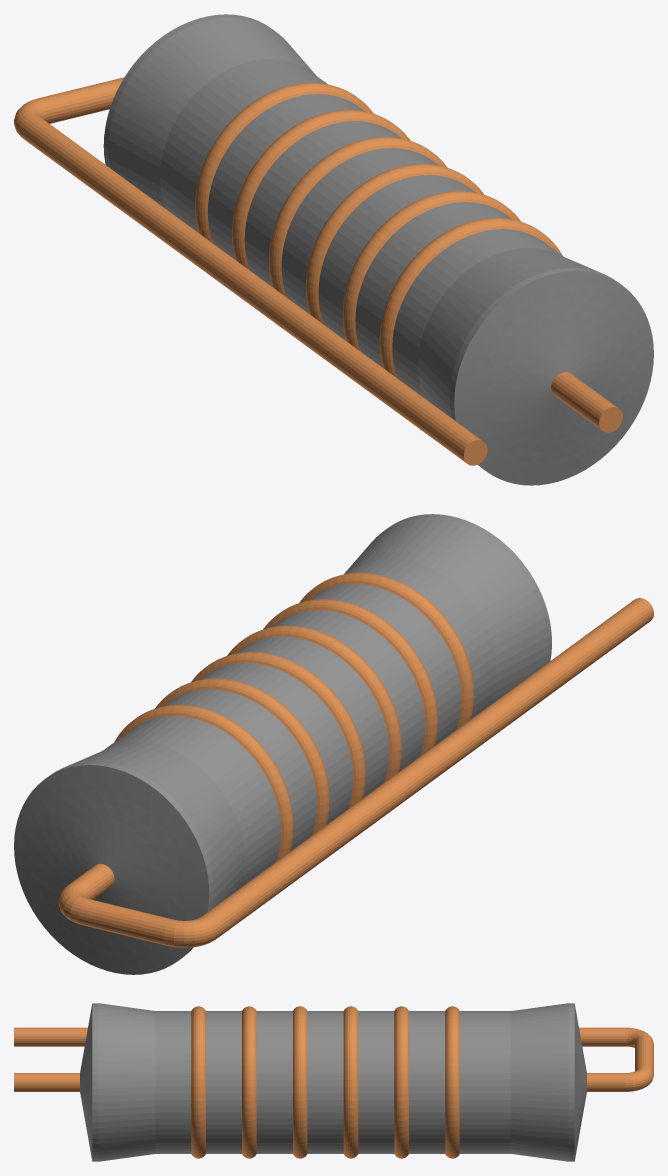
Rendered from L_Axial_L24.0mm_D7.5mm_P5.08mm_Vertical_Fastron_MESC.glb.
3 renders of one model, top to bottom at view 1: azimuth 30°, elevation 25°; view 2: azimuth 150°, elevation 25°; view 3: azimuth 270°, elevation 25°, orthographic. The views are drawn at different scales.
Visible parts, largest first — view 1: Shape_IndexedFaceSet.002, Shape_IndexedFaceSet.025, Shape_IndexedFaceSet.018, Shape_IndexedFaceSet.017, Shape_IndexedFaceSet.004, Shape_IndexedFaceSet.005, Shape_IndexedFaceSet.007, Shape_IndexedFaceSet.009, Shape_IndexedFaceSet.011, Shape_IndexedFaceSet.015, Shape_IndexedFaceSet.013, Shape_IndexedFaceSet.006 (+9 smaller); view 2: Shape_IndexedFaceSet.020, Shape_IndexedFaceSet.025, Shape_IndexedFaceSet.004, Shape_IndexedFaceSet.017, Shape_IndexedFaceSet.018, Shape_IndexedFaceSet.011, Shape_IndexedFaceSet.015, Shape_IndexedFaceSet.007, Shape_IndexedFaceSet.009, Shape_IndexedFaceSet.013, Shape_IndexedFaceSet.005, Shape_IndexedFaceSet.016 (+11 smaller); view 3: Shape_IndexedFaceSet.004, Shape_IndexedFaceSet.018, Shape_IndexedFaceSet.017, Shape_IndexedFaceSet.005, Shape_IndexedFaceSet.009, Shape_IndexedFaceSet.011, Shape_IndexedFaceSet.013, Shape_IndexedFaceSet.015, Shape_IndexedFaceSet.007, Shape_IndexedFaceSet.012, Shape_IndexedFaceSet.025, Shape_IndexedFaceSet.010 (+13 smaller).
Boxes of the visible parts, x1,y1,x2,y2 form: Shape_IndexedFaceSet.002: (454,271,653,485); Shape_IndexedFaceSet.025: (19,115,481,463); Shape_IndexedFaceSet.018: (108,17,315,207); Shape_IndexedFaceSet.017: (160,59,327,231); Shape_IndexedFaceSet.004: (418,248,600,417); Shape_IndexedFaceSet.005: (392,229,562,397); Shape_IndexedFaceSet.007: (355,202,512,367); Shape_IndexedFaceSet.009: (318,175,475,340); Shape_IndexedFaceSet.011: (281,148,438,313); Shape_IndexedFaceSet.015: (207,94,364,259); Shape_IndexedFaceSet.013: (244,121,401,286); Shape_IndexedFaceSet.006: (379,218,562,378); Shape_IndexedFaceSet.020: (14,765,209,974); Shape_IndexedFaceSet.025: (201,598,653,938); Shape_IndexedFaceSet.004: (344,517,547,703); Shape_IndexedFaceSet.017: (103,715,281,888); Shape_IndexedFaceSet.018: (66,742,244,908); Shape_IndexedFaceSet.011: (236,636,389,797); Shape_IndexedFaceSet.015: (163,689,317,850); Shape_IndexedFaceSet.007: (308,583,461,745); Shape_IndexedFaceSet.009: (272,610,425,771); Shape_IndexedFaceSet.013: (200,663,353,824); Shape_IndexedFaceSet.005: (344,557,497,718); Shape_IndexedFaceSet.016: (114,705,293,861); Shape_IndexedFaceSet.004: (98,1003,155,1161); Shape_IndexedFaceSet.018: (511,1003,568,1161); Shape_IndexedFaceSet.017: (459,1011,511,1153); Shape_IndexedFaceSet.005: (155,1011,191,1153); Shape_IndexedFaceSet.009: (256,1011,292,1153); Shape_IndexedFaceSet.011: (307,1011,343,1153); Shape_IndexedFaceSet.013: (358,1011,394,1153); Shape_IndexedFaceSet.015: (409,1011,445,1153); Shape_IndexedFaceSet.007: (206,1011,241,1153); Shape_IndexedFaceSet.012: (343,1006,358,1158); Shape_IndexedFaceSet.025: (14,1027,625,1046); Shape_IndexedFaceSet.010: (293,1006,307,1158).
Size of the model in its own units: 3.65 by 2.95 by 11.91.
